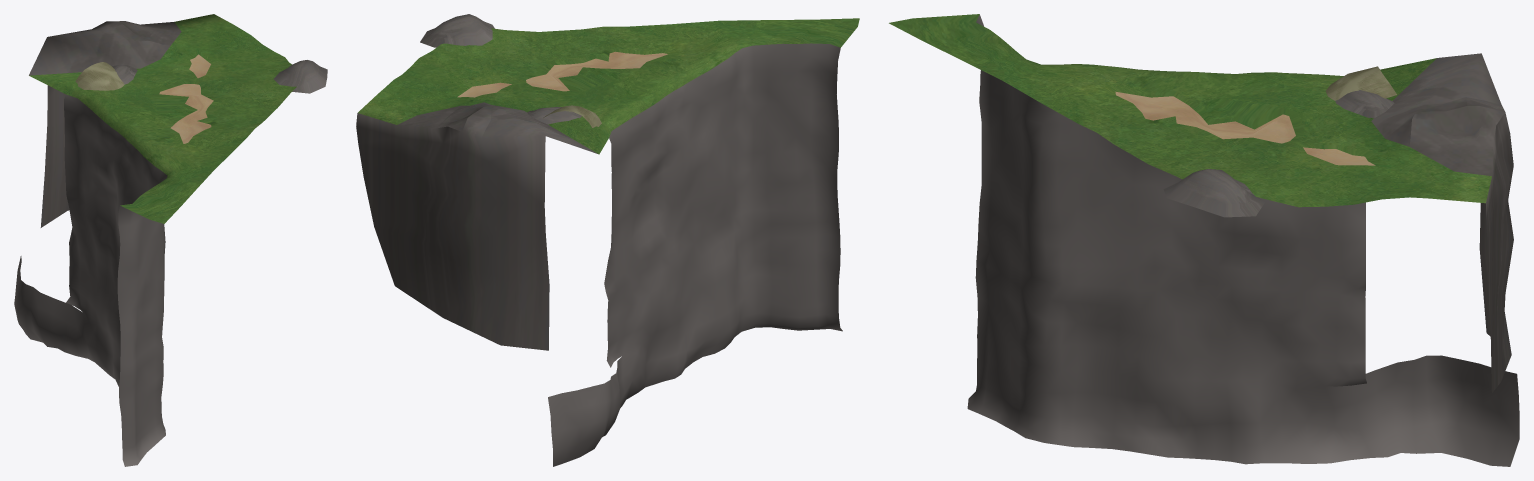
Rendered from SM_ENV_KNFRST_Cliff_F_COL.FBX.
3 renders of one model, left to right at view 1: azimuth 30°, elevation 25°; view 2: azimuth 150°, elevation 25°; view 3: azimuth 270°, elevation 25°, orthographic. The views are drawn at different scales.
Parts seen in each view (by area): view 1: SM_ENV_KNFRST_Cliff_F_COL; view 2: SM_ENV_KNFRST_Cliff_F_COL; view 3: SM_ENV_KNFRST_Cliff_F_COL.
Boxes of the visible parts, x1,y1,x2,y2 form: SM_ENV_KNFRST_Cliff_F_COL: (14,14,327,466); SM_ENV_KNFRST_Cliff_F_COL: (356,14,859,466); SM_ENV_KNFRST_Cliff_F_COL: (889,14,1519,466).
Size of the model in its own units: 4198 by 3977 by 5330.
